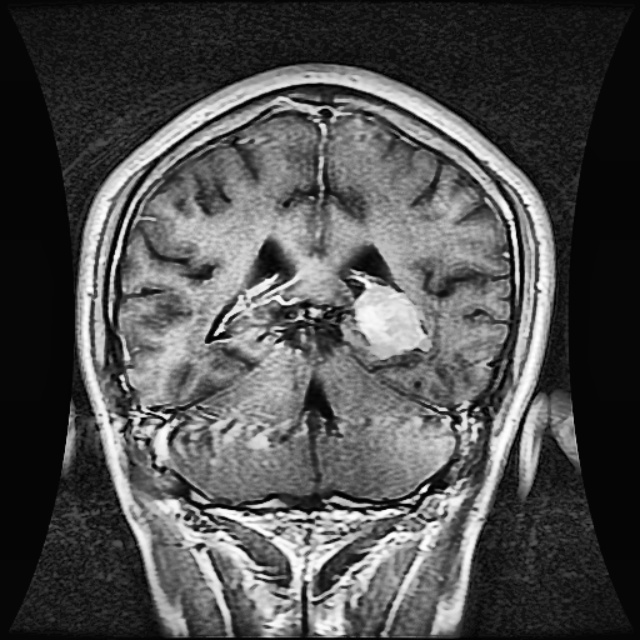Glioma: (353, 284, 425, 358)
